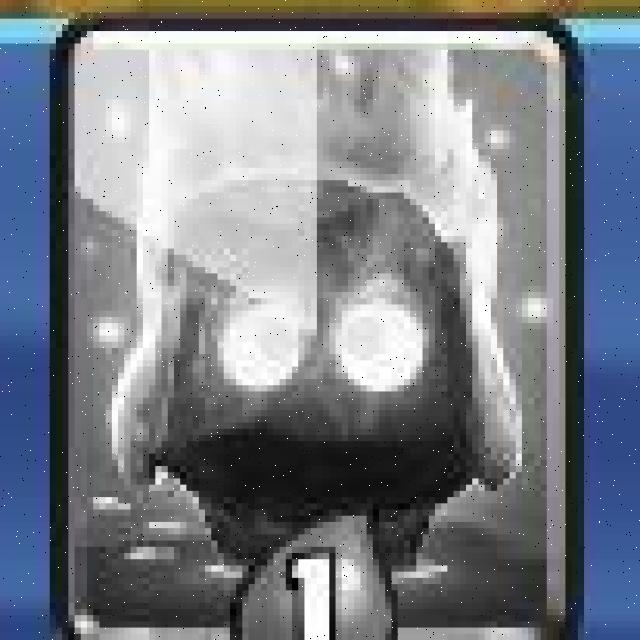Fire_Spirit: (52, 20, 582, 640)
